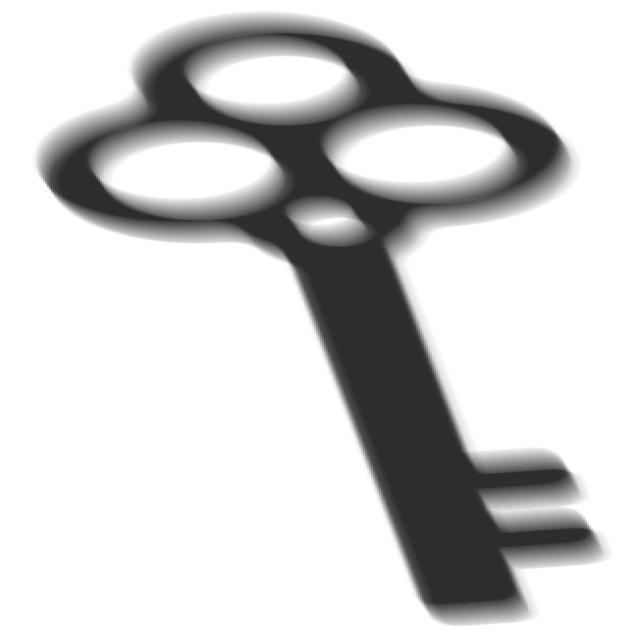key: (25, 7, 624, 640)
